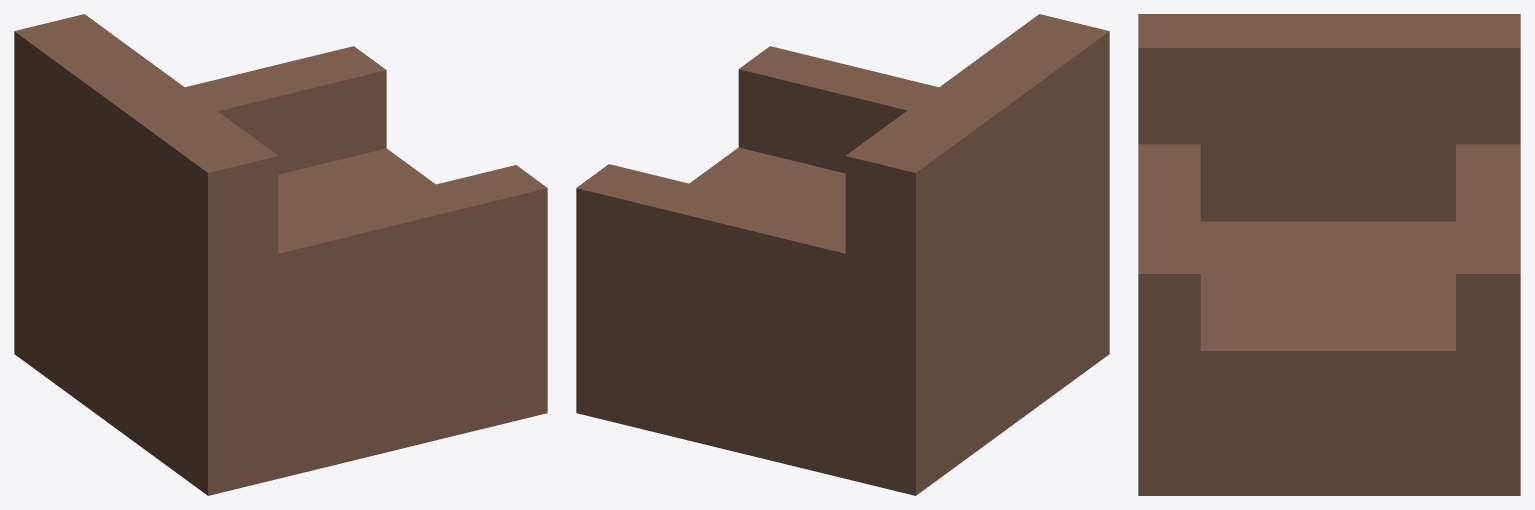
The model's file is SofaChair.fbx.
The picture shows the model from 3 angles, left to right: view 1: azimuth 30°, elevation 25°; view 2: azimuth 150°, elevation 25°; view 3: azimuth 270°, elevation 25°; orthographic projection.
Parts seen in each view (by area): view 1: Sofa_Chair; view 2: Sofa_Chair; view 3: Sofa_Chair.
Part boxes in pixels (x1,y1,x2,y2): Sofa_Chair: [14, 14, 547, 495]; Sofa_Chair: [576, 14, 1109, 495]; Sofa_Chair: [1138, 14, 1520, 495].
Size of the model in its own units: 229 by 208 by 227.
